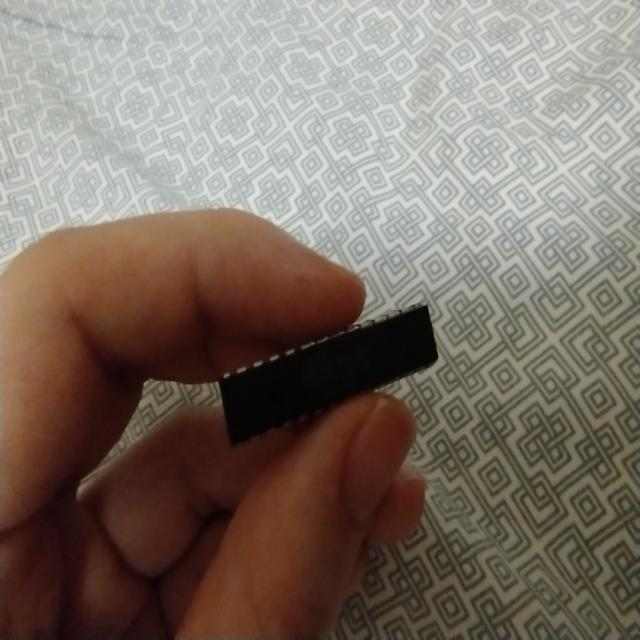atmega: (216, 298, 440, 448)
